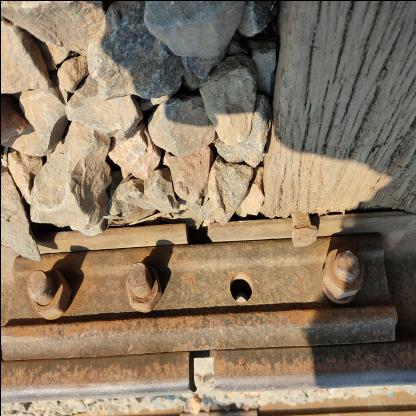Defective 2: (158, 258, 242, 414)
Defective 3: (1, 209, 396, 364)
